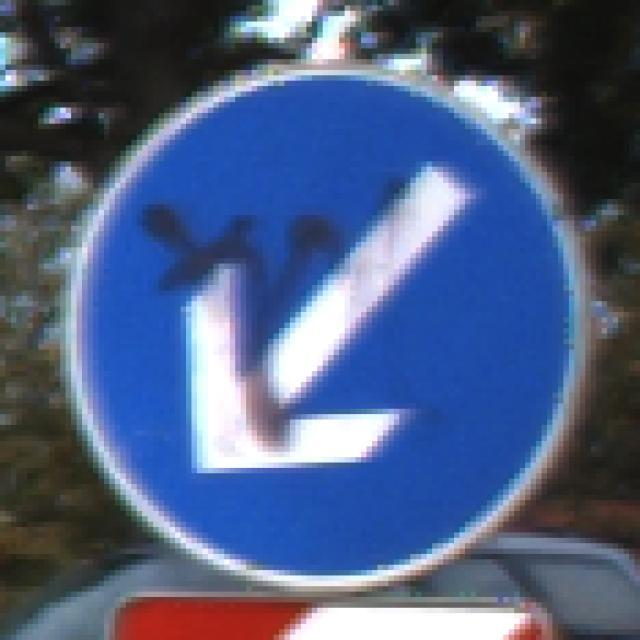compulsary keep left: (37, 52, 598, 591)
